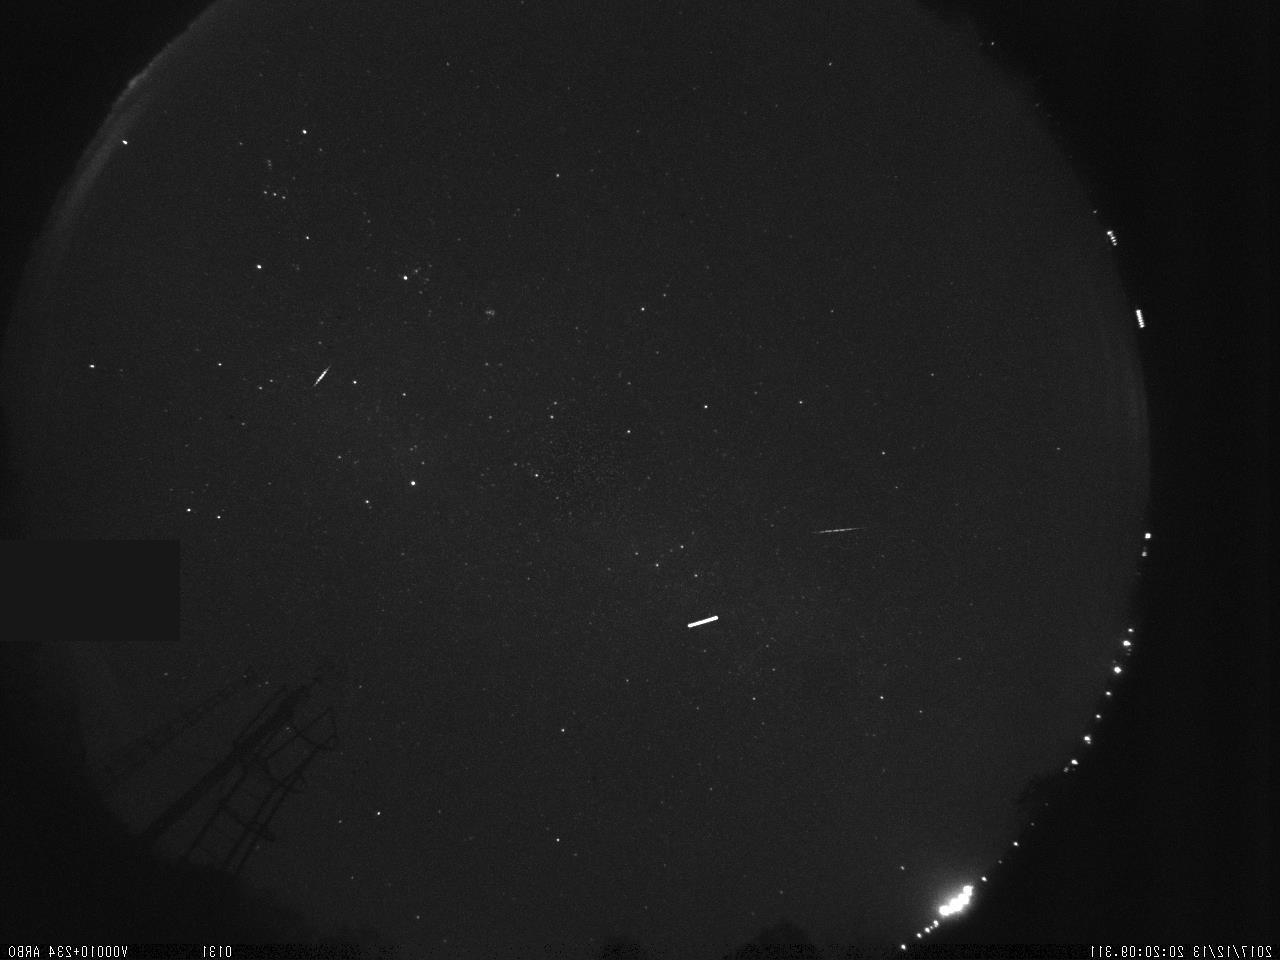meteor: (804, 521, 866, 544), (309, 355, 334, 394)
satelite: (683, 607, 722, 638)
